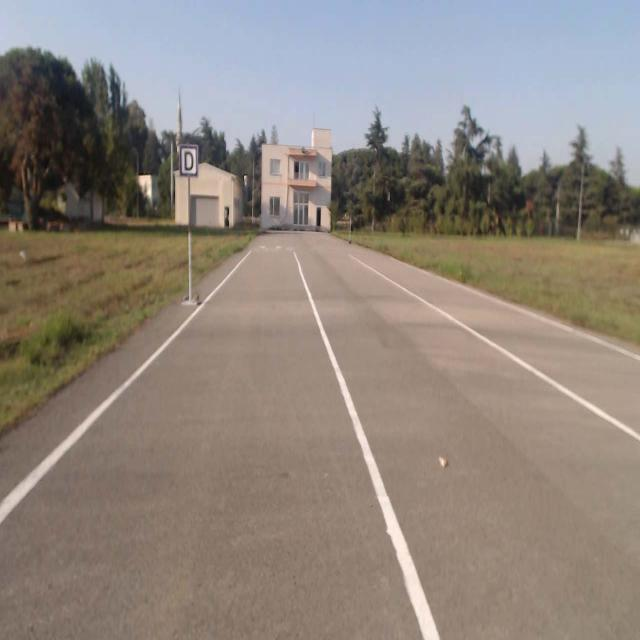durak: (180, 145, 198, 176)
